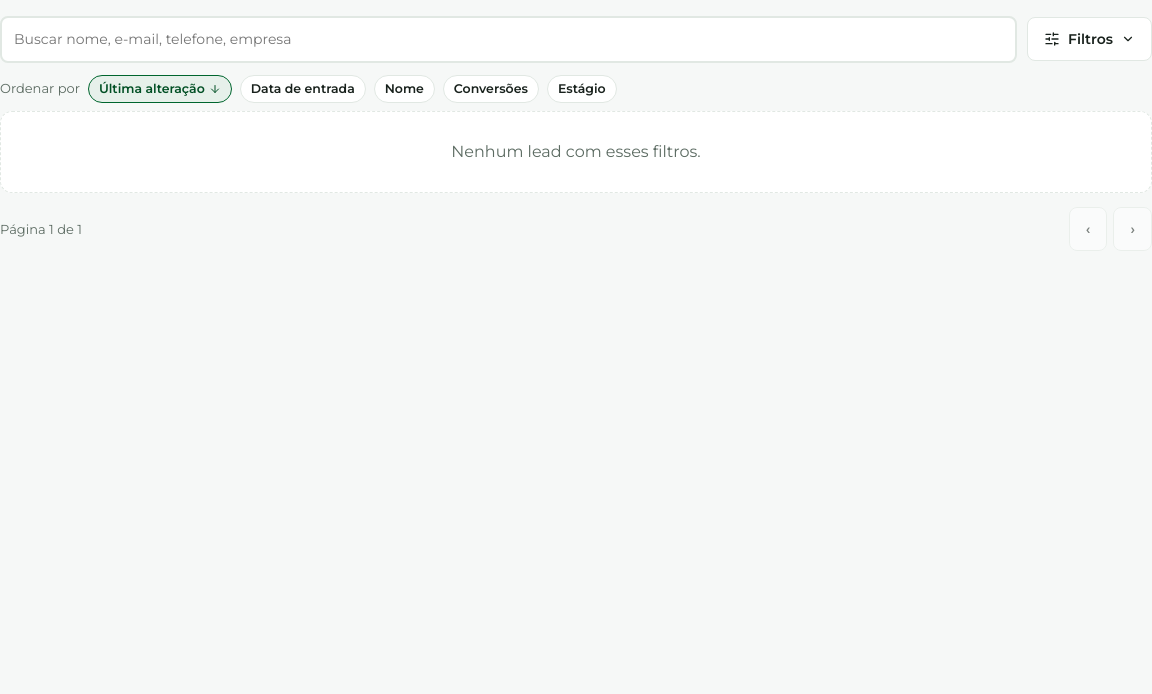
it: LeadsPage segment filters › allows typing both UF characters without crashing on the partial URL value
Click the button "Filtros" at coordinates (1090, 39), box [1027, 17, 1151, 61]
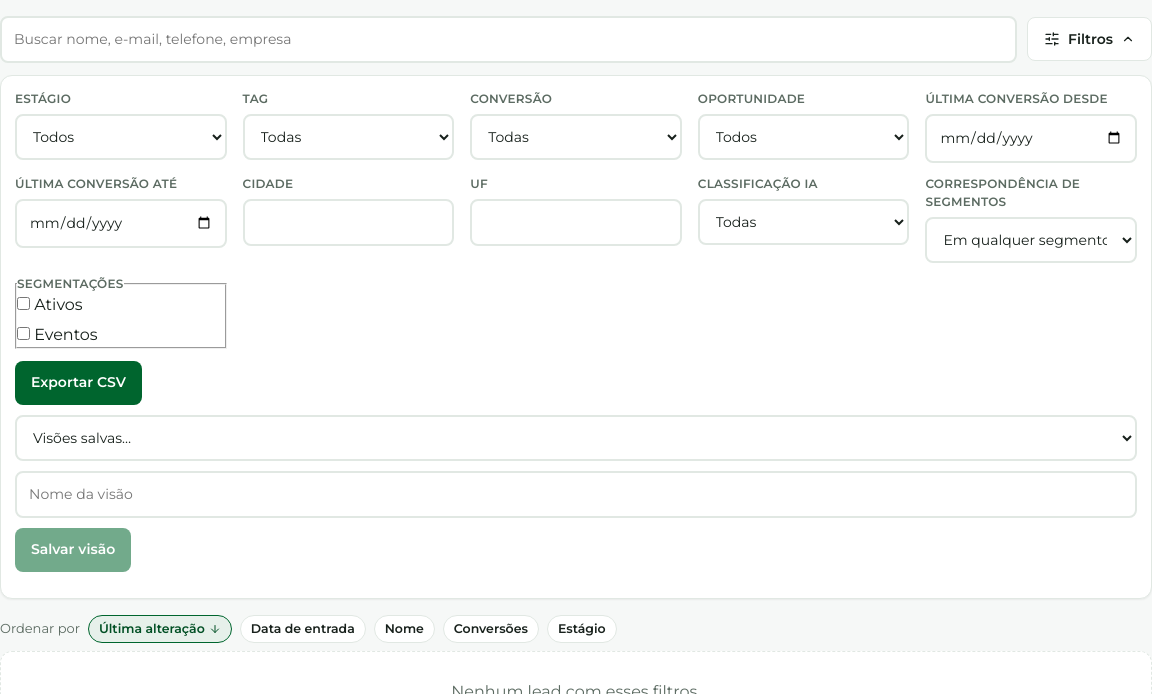
Type "P" into the field labelled "UF" at coordinates (576, 222), box [470, 198, 682, 246]
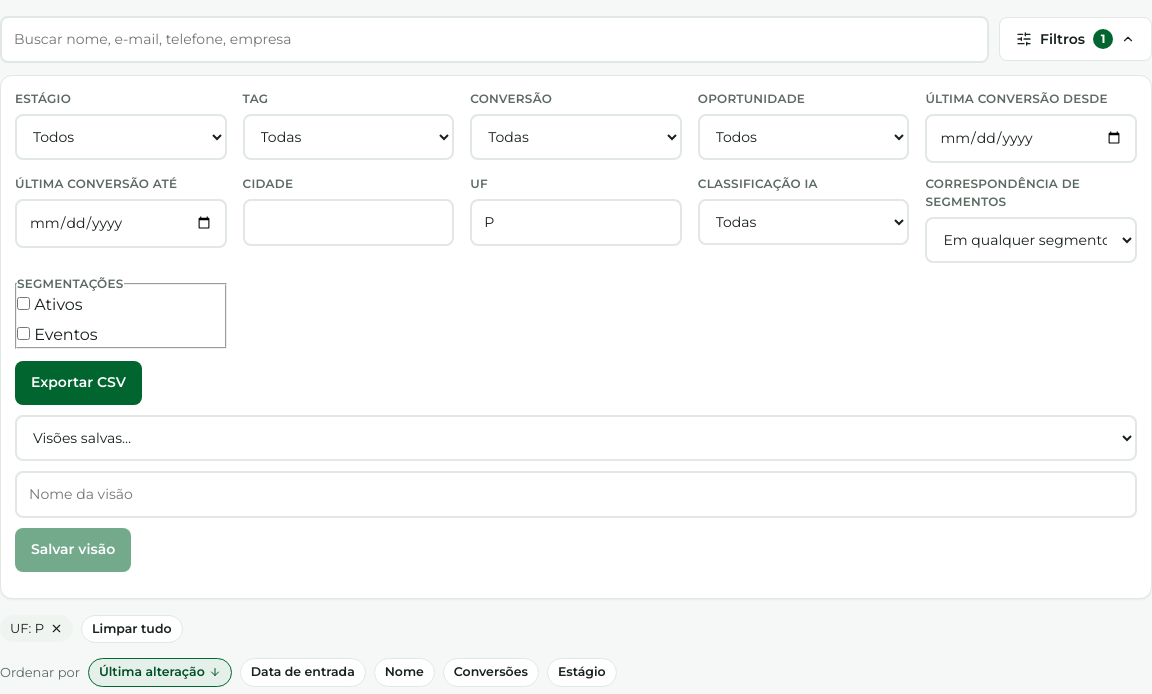
Replace the text in the field labelled "UF" with "PR" at coordinates (576, 222), box [470, 198, 682, 246]
(page scrolled)
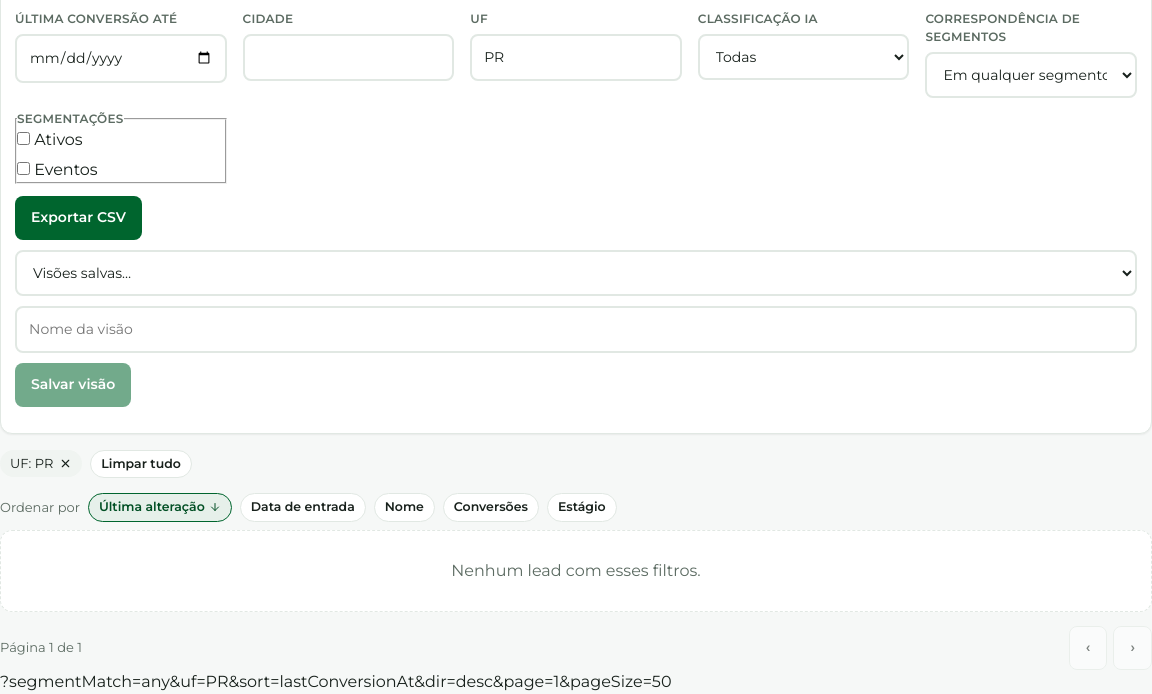
Expected: the text named "URL atual" shows "uf=PR", [0, 672, 672, 691]
